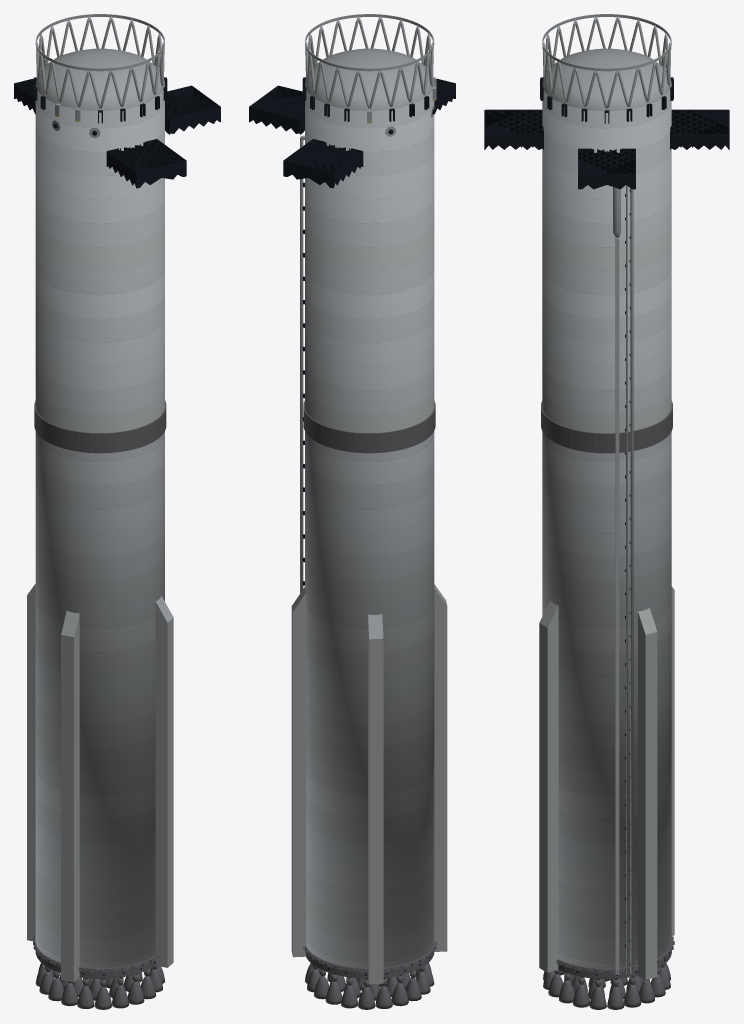
Rendered from superheavy.glb.
3 renders of one model, left to right at view 1: azimuth 30°, elevation 25°; view 2: azimuth 150°, elevation 25°; view 3: azimuth 270°, elevation 25°, orthographic.
Parts seen in each view (by area): view 1: booster_tank, booster_chine_3, booster_chine_0, booster_dome, booster_chine_2, booster_band, grid_fin_right, grid_fin_windward, hotstage_ring, booster_aft_rim, grid_fin_left, booster_aft_manifold; view 2: booster_tank, booster_chine_2, booster_chine_1, booster_dome, booster_chine_3, booster_band, grid_fin_left, grid_fin_windward, booster_raceway_pipe_1, hotstage_ring, booster_aft_rim, booster_aft_manifold (+1 smaller); view 3: booster_tank, booster_chine_1, booster_chine_0, booster_dome, booster_raceway, booster_raceway_pipe_1, booster_band, grid_fin_left, grid_fin_right, grid_fin_windward, booster_raceway_pipe_0, booster_chine_2 (+2 smaller).
Part boxes in pixels (bbox=[...]): booster_tank: bbox=[35, 81, 164, 967]; booster_chine_3: bbox=[61, 610, 79, 982]; booster_chine_0: bbox=[155, 596, 173, 967]; booster_dome: bbox=[36, 48, 164, 110]; booster_chine_2: bbox=[27, 584, 35, 941]; booster_band: bbox=[34, 400, 166, 453]; grid_fin_right: bbox=[106, 139, 186, 188]; grid_fin_windward: bbox=[165, 85, 220, 134]; hotstage_ring: bbox=[35, 14, 164, 71]; booster_aft_rim: bbox=[35, 951, 155, 978]; grid_fin_left: bbox=[14, 78, 35, 114]; booster_aft_manifold: bbox=[34, 936, 156, 972]; booster_tank: bbox=[305, 81, 434, 967]; booster_chine_2: bbox=[368, 614, 383, 984]; booster_chine_1: bbox=[291, 587, 306, 957]; booster_dome: bbox=[305, 48, 433, 110]; booster_chine_3: bbox=[434, 584, 447, 951]; booster_band: bbox=[303, 400, 435, 453]; grid_fin_left: bbox=[283, 139, 363, 188]; grid_fin_windward: bbox=[249, 85, 304, 134]; booster_raceway_pipe_1: bbox=[300, 135, 304, 593]; hotstage_ring: bbox=[305, 14, 434, 71]; booster_aft_rim: bbox=[306, 951, 434, 978]; booster_aft_manifold: bbox=[304, 941, 435, 972]; booster_tank: bbox=[542, 85, 671, 968]; booster_chine_1: bbox=[638, 608, 657, 980]; booster_chine_0: bbox=[539, 600, 558, 972]; booster_dome: bbox=[542, 48, 671, 110]; booster_raceway: bbox=[615, 237, 619, 974]; booster_raceway_pipe_1: bbox=[630, 188, 633, 974]; booster_band: bbox=[541, 401, 672, 453]; grid_fin_left: bbox=[670, 109, 729, 149]; grid_fin_right: bbox=[484, 109, 543, 149]; grid_fin_windward: bbox=[578, 148, 635, 189]; booster_raceway_pipe_0: bbox=[626, 185, 627, 974]; booster_chine_2: bbox=[671, 586, 674, 935].
Bounding box in the file's own units: 13.24 × 72.3 × 17.05.
Materials: 5 (1 with a texture image).
